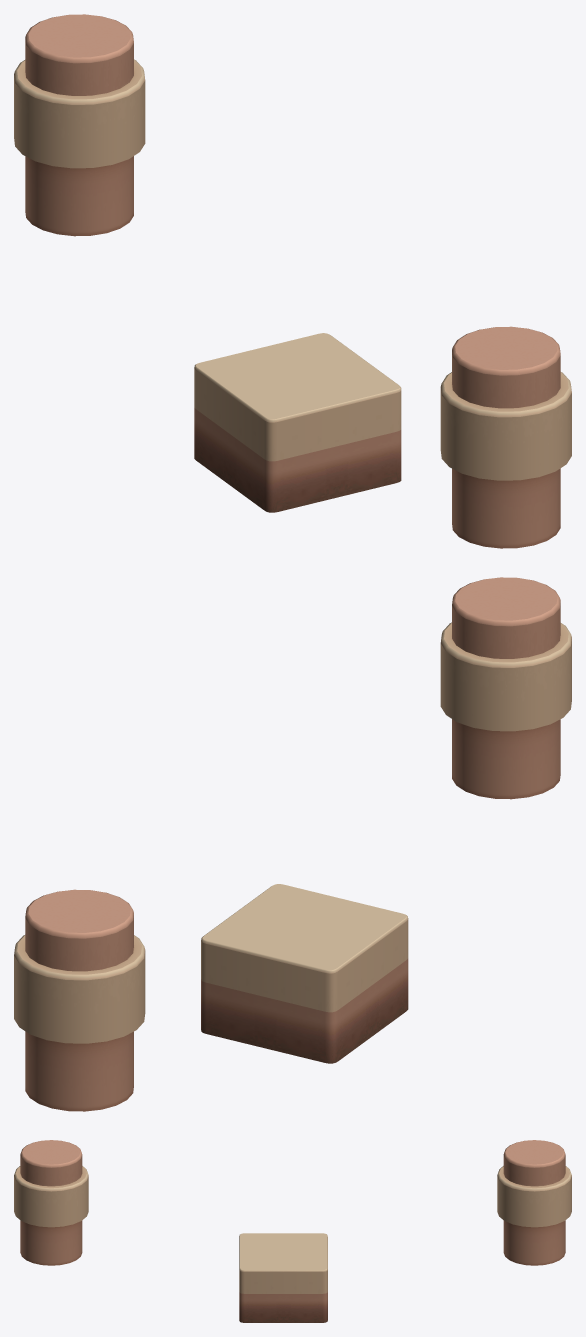
The model's file is Props.fbx.
3 renders of one model, top to bottom at view 1: azimuth 30°, elevation 25°; view 2: azimuth 150°, elevation 25°; view 3: azimuth 270°, elevation 25°, orthographic. The views are drawn at different scales.
Parts seen in each view (by area): view 1: Box02, Cylinder-2 (1), Cylinder-2; view 2: Box02, Cylinder-2, Cylinder-2 (1); view 3: Cylinder-2, Cylinder-2 (1), Box02.
Part boxes in pixels (x1=…): Box02: x1=194, y1=333, x2=401, y2=512; Cylinder-2 (1): x1=440, y1=326, x2=571, y2=548; Cylinder-2: x1=14, y1=14, x2=145, y2=236; Box02: x1=201, y1=884, x2=408, y2=1063; Cylinder-2: x1=14, y1=889, x2=145, y2=1111; Cylinder-2 (1): x1=440, y1=577, x2=571, y2=799; Cylinder-2: x1=497, y1=1140, x2=571, y2=1265; Cylinder-2 (1): x1=14, y1=1140, x2=88, y2=1265; Box02: x1=239, y1=1233, x2=327, y2=1322.
Size of the model in its own units: 4 by 7.62 by 25.21.
2 materials, 2 textured.
